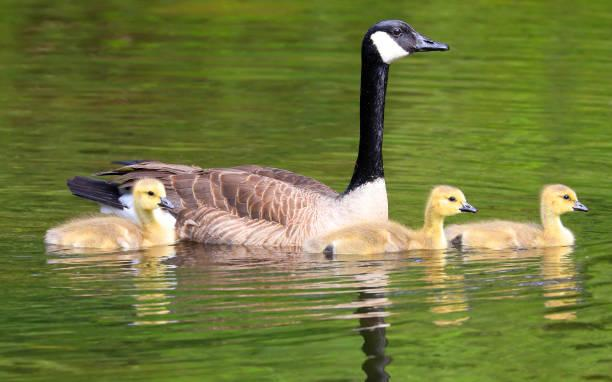Canadian-Goose: (71, 17, 441, 252), (298, 183, 472, 254), (436, 178, 587, 250), (45, 180, 179, 248)
